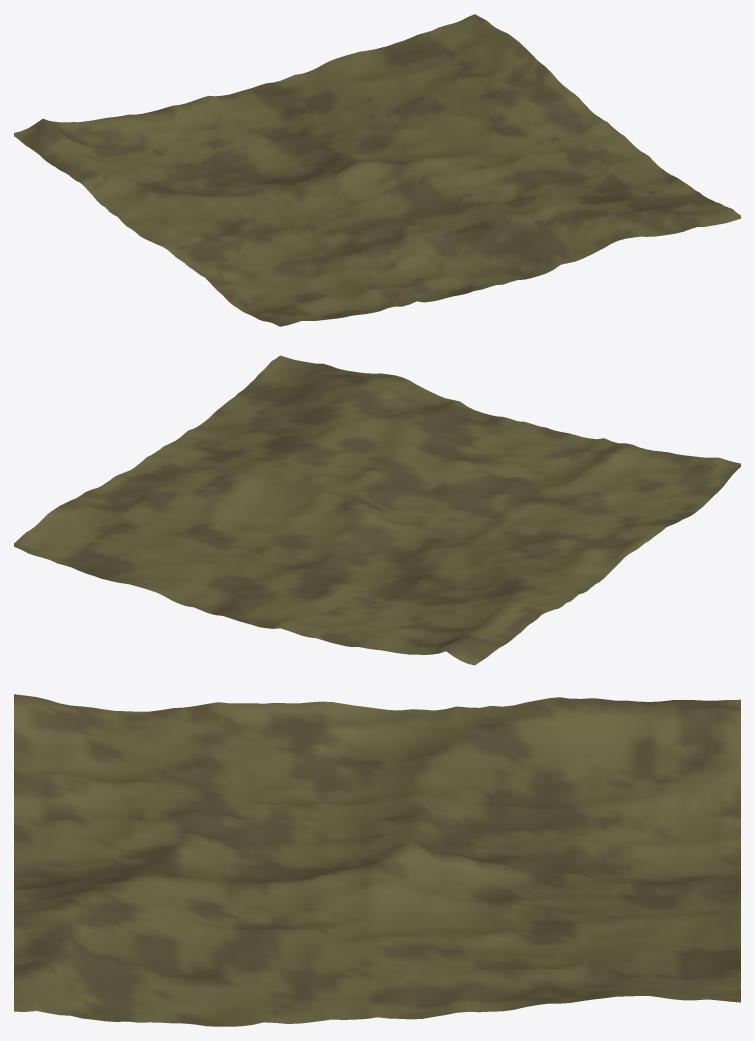
File: land_f_09_00.glb
3 views of the same model, one above another, from view 1: azimuth 30°, elevation 25°; view 2: azimuth 150°, elevation 25°; view 3: azimuth 270°, elevation 25° (orthographic). The views are drawn at different scales.
Parts seen in each view (by area): view 1: land_f_09_00; view 2: land_f_09_00; view 3: land_f_09_00.
Boxes of the visible parts, box(x1,y1,x2,y2) form: land_f_09_00: box(14, 14, 740, 326); land_f_09_00: box(14, 355, 740, 665); land_f_09_00: box(14, 694, 740, 1026).
Size of the model in its own units: 3840 by 238 by 3840.
